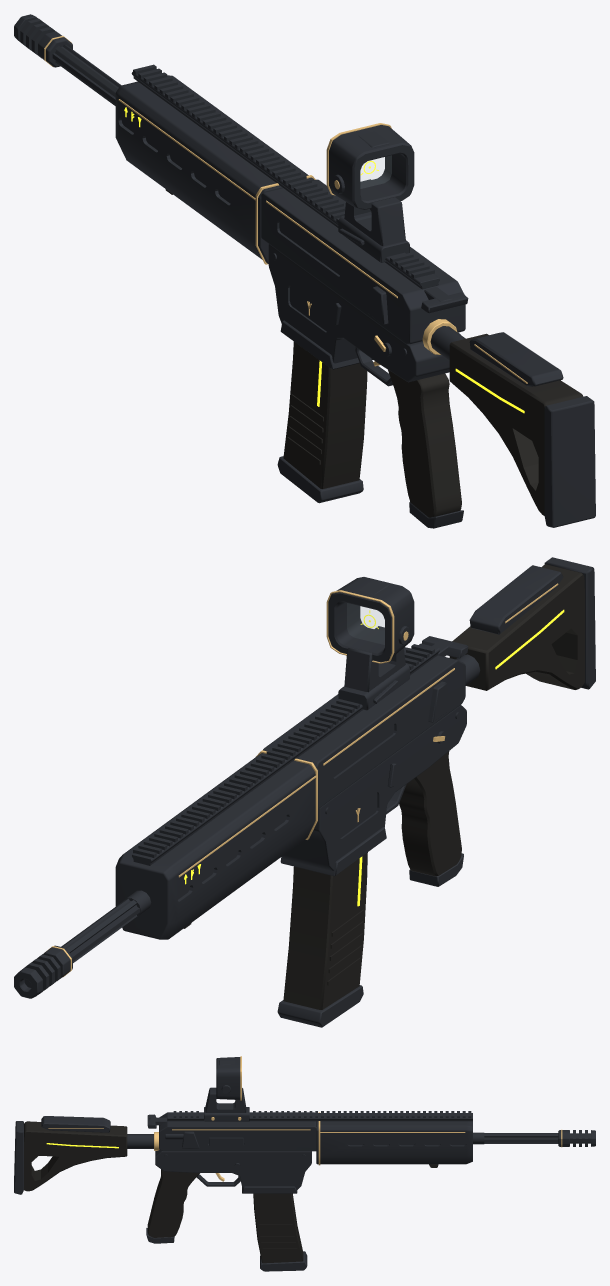
Rendered from weapon_m4a1.glb.
3 views of the same model, one above another, from view 1: azimuth 30°, elevation 25°; view 2: azimuth 150°, elevation 25°; view 3: azimuth 270°, elevation 25° (orthographic). The views are drawn at different scales.
Visible parts, largest first — view 1: m4a1_metal, m4a1_polymer, m4a1_gold, m4a1_glass; view 2: m4a1_metal, m4a1_polymer, m4a1_gold, m4a1_glass; view 3: m4a1_metal, m4a1_polymer, m4a1_gold.
Part boxes in pixels (bbox=[...]): m4a1_metal: bbox=[14, 14, 595, 528]; m4a1_polymer: bbox=[165, 189, 583, 517]; m4a1_gold: bbox=[44, 36, 527, 383]; m4a1_glass: bbox=[361, 156, 391, 187]; m4a1_metal: bbox=[14, 557, 595, 1027]; m4a1_polymer: bbox=[184, 564, 584, 1009]; m4a1_gold: bbox=[46, 583, 558, 976]; m4a1_glass: bbox=[347, 604, 384, 644]; m4a1_metal: bbox=[14, 1057, 595, 1271]; m4a1_polymer: bbox=[24, 1098, 438, 1263]; m4a1_gold: bbox=[48, 1056, 562, 1181].
Bounding box in the file's own units: 0.0757 × 0.406 × 1.05.
